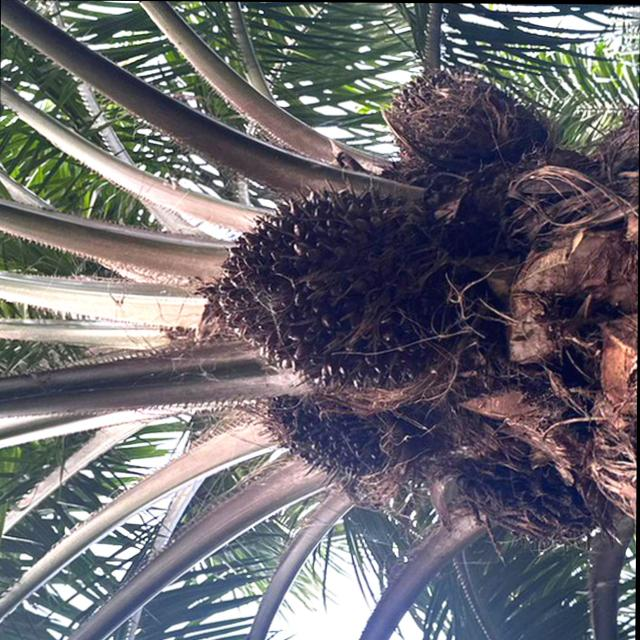ripe: (190, 167, 476, 409)
